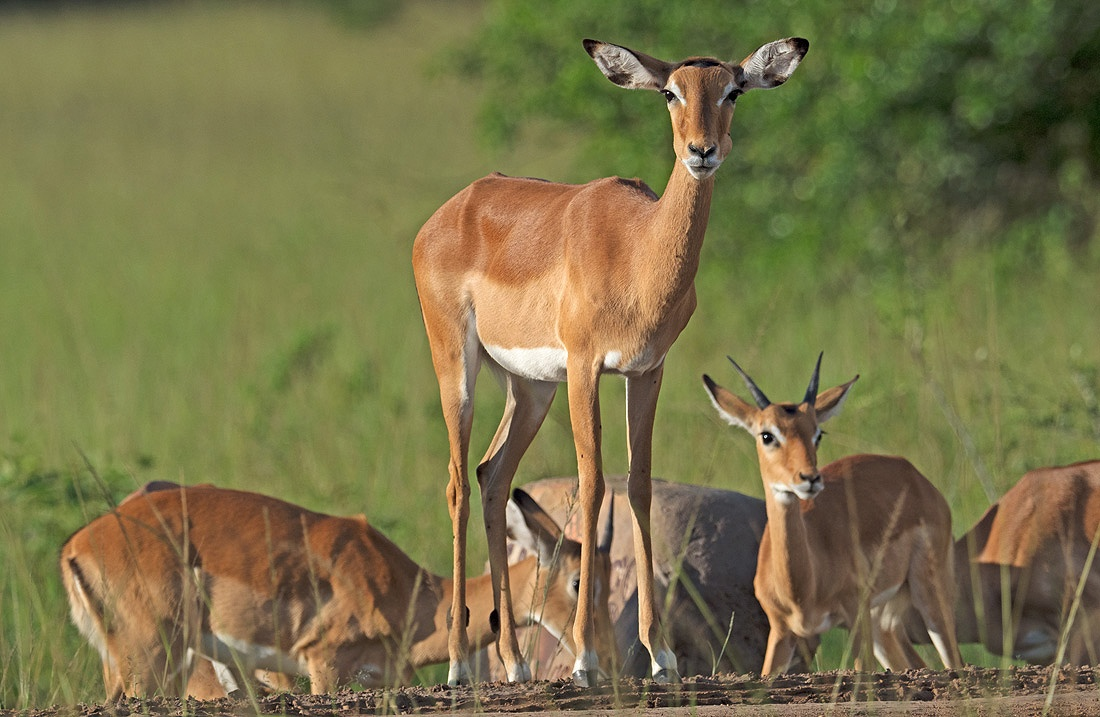impala: (402, 26, 816, 696), (48, 476, 624, 700), (692, 347, 973, 675)
